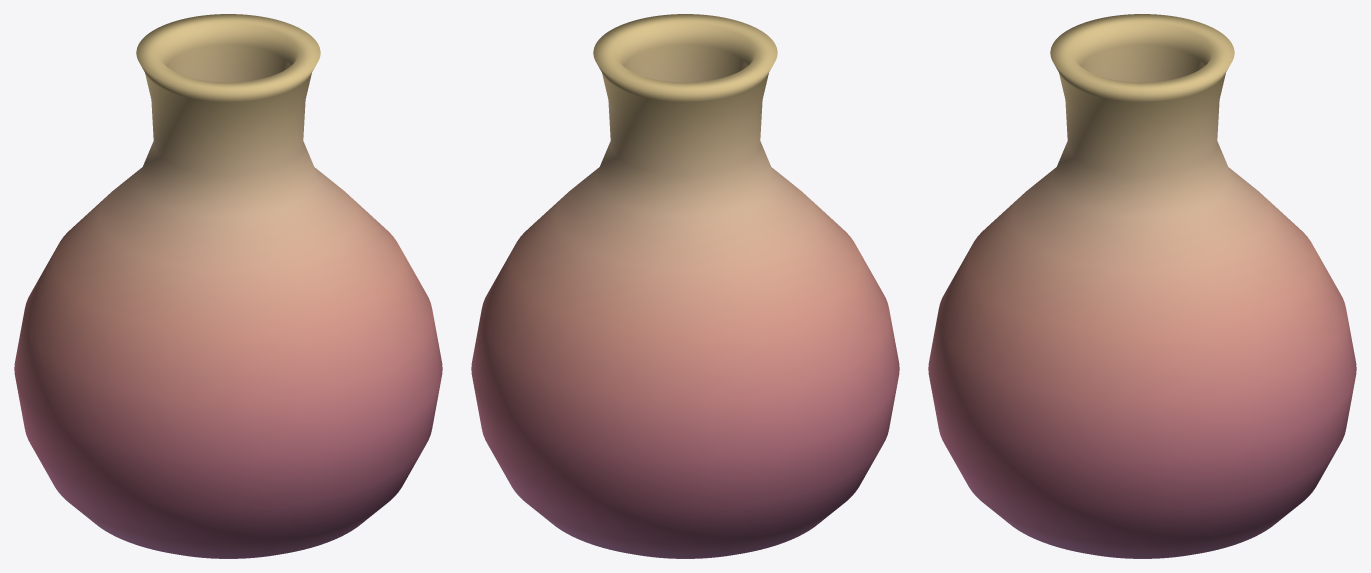
The model's file is placeholder-vase.glb.
3 views of the same model, side by side, from view 1: azimuth 30°, elevation 25°; view 2: azimuth 150°, elevation 25°; view 3: azimuth 270°, elevation 25° (orthographic).
Visible parts, largest first — view 1: PlaceholderVase; view 2: PlaceholderVase; view 3: PlaceholderVase.
Boxes of the visible parts, <box> form: PlaceholderVase: <box>14,14,442,558</box>; PlaceholderVase: <box>471,14,899,558</box>; PlaceholderVase: <box>928,14,1356,558</box>.
Bounding box in the file's own units: 0.1978 × 0.23 × 0.1978.
